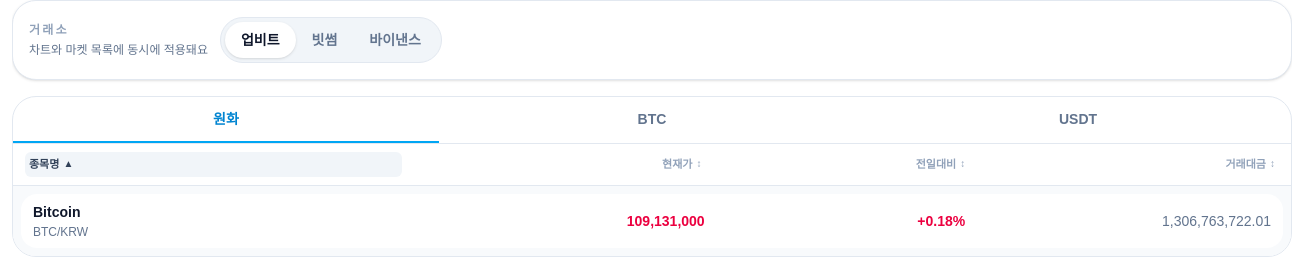
Test: MarketChartMobileListLayout › 바이낸스로 바꾸면 USDT 탭으로 자동 복귀하고 KRW 탭을 비활성화한다
Click the tab "바이낸스": point(395, 40) [353,22,437,58]
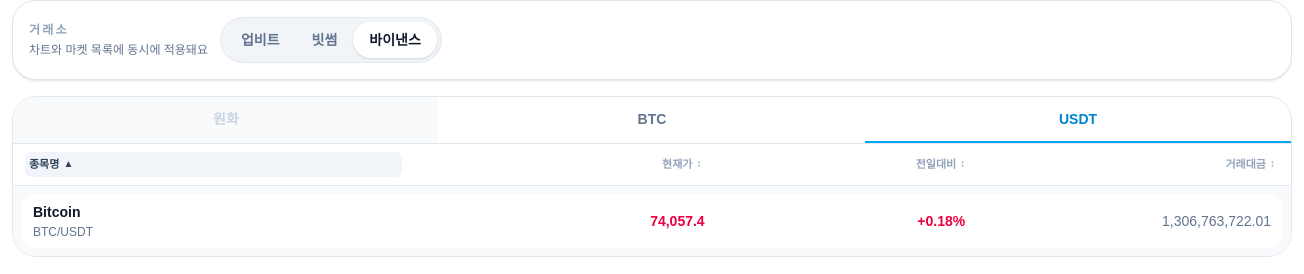
Expected: the tab "원화" is disabled, [13,97,439,143]
